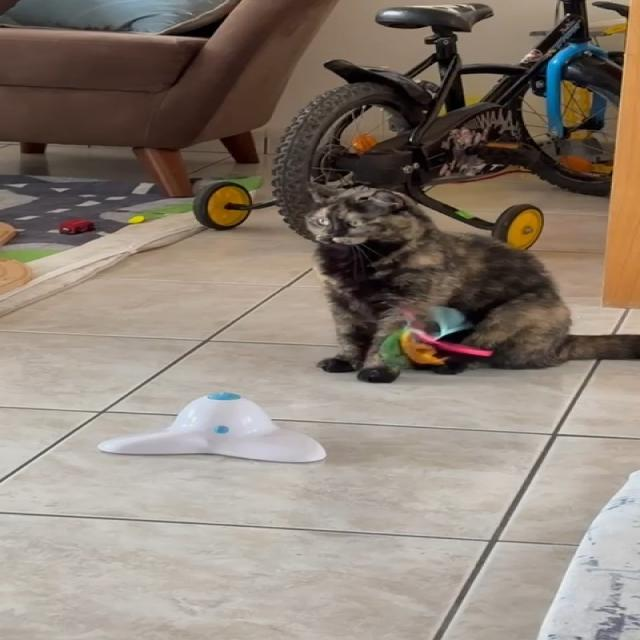authorized: (300, 179, 639, 383)
